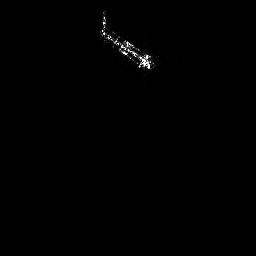ship: (101, 29, 152, 69)
